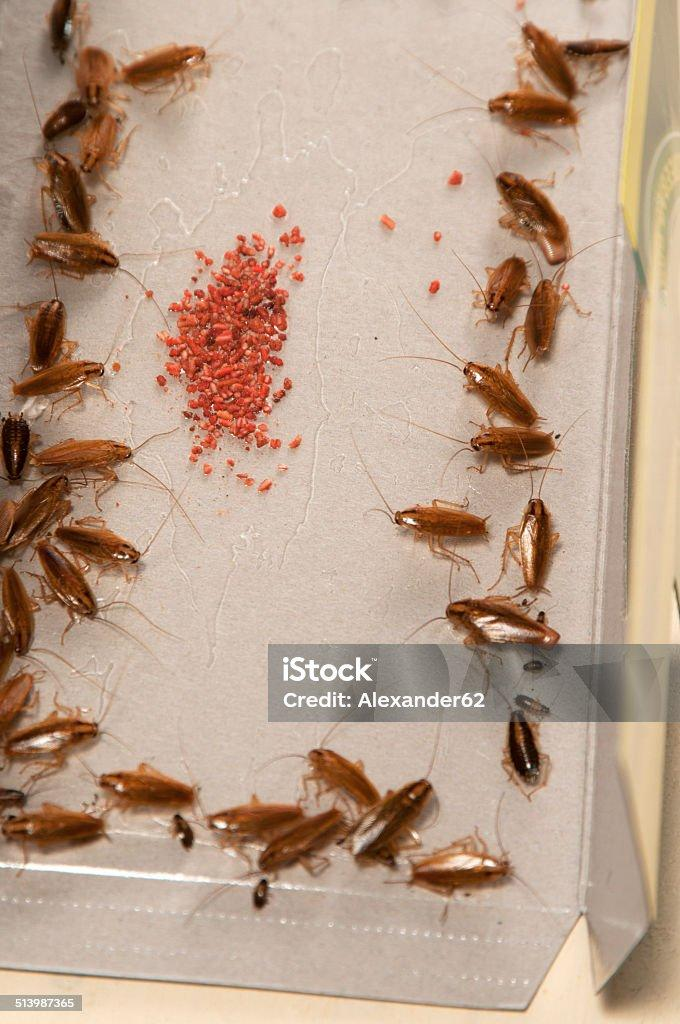cockroach: (364, 558, 572, 665), (382, 306, 553, 433), (206, 804, 380, 894), (463, 671, 578, 802), (330, 760, 452, 871), (0, 316, 132, 418), (471, 478, 580, 598), (383, 826, 524, 917), (274, 724, 396, 823), (2, 420, 172, 490), (358, 484, 498, 567), (484, 168, 586, 270), (0, 789, 128, 868), (116, 12, 224, 105), (34, 528, 119, 638), (41, 508, 168, 580), (0, 460, 74, 575), (0, 700, 108, 778), (0, 280, 88, 375), (7, 236, 140, 297), (168, 788, 302, 847), (474, 78, 591, 145), (444, 412, 570, 474), (79, 750, 194, 817), (62, 26, 134, 131), (20, 150, 105, 235), (12, 0, 98, 79), (505, 276, 574, 366), (462, 244, 529, 326), (0, 556, 48, 658), (508, 26, 582, 92), (28, 88, 90, 155), (79, 108, 140, 174), (0, 656, 52, 733), (0, 406, 40, 500)
